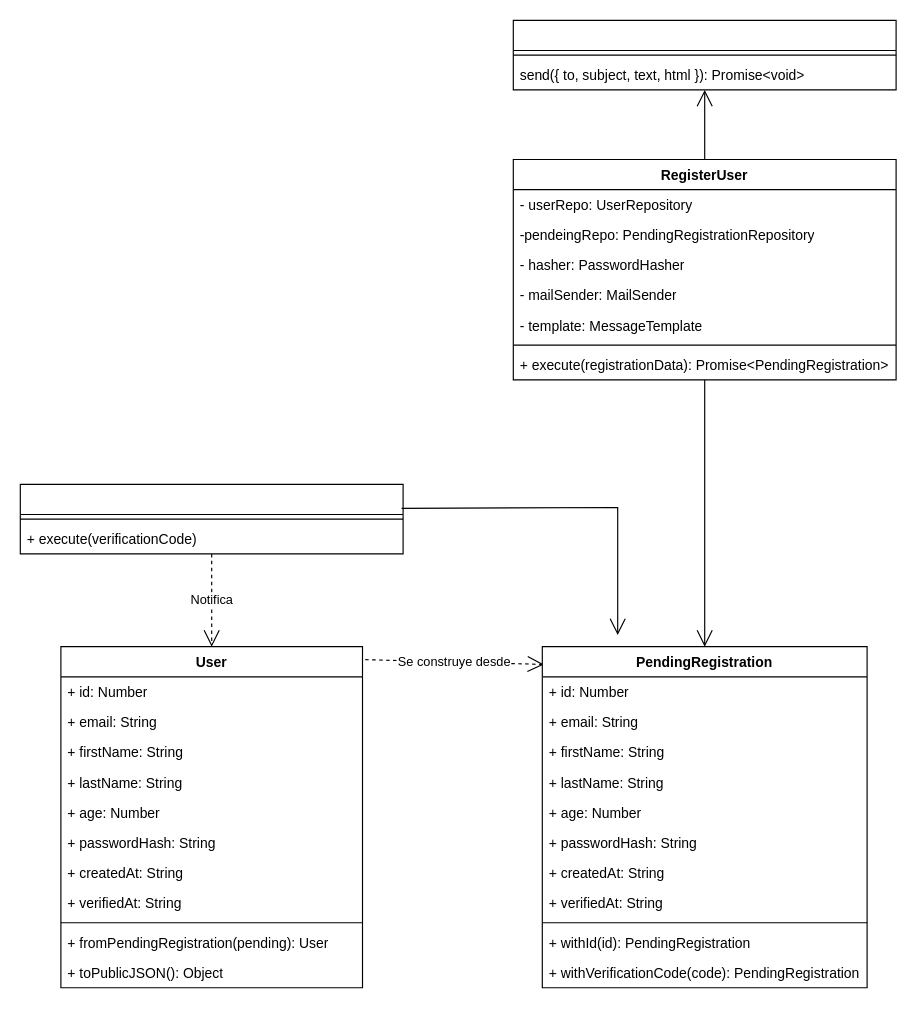
This 916x1012 diagram has some shape labels left out. Each missing label, with the box of its shape:
MailSender: (512, 19, 896, 90)
VerifyRegistration: (19, 483, 403, 554)
